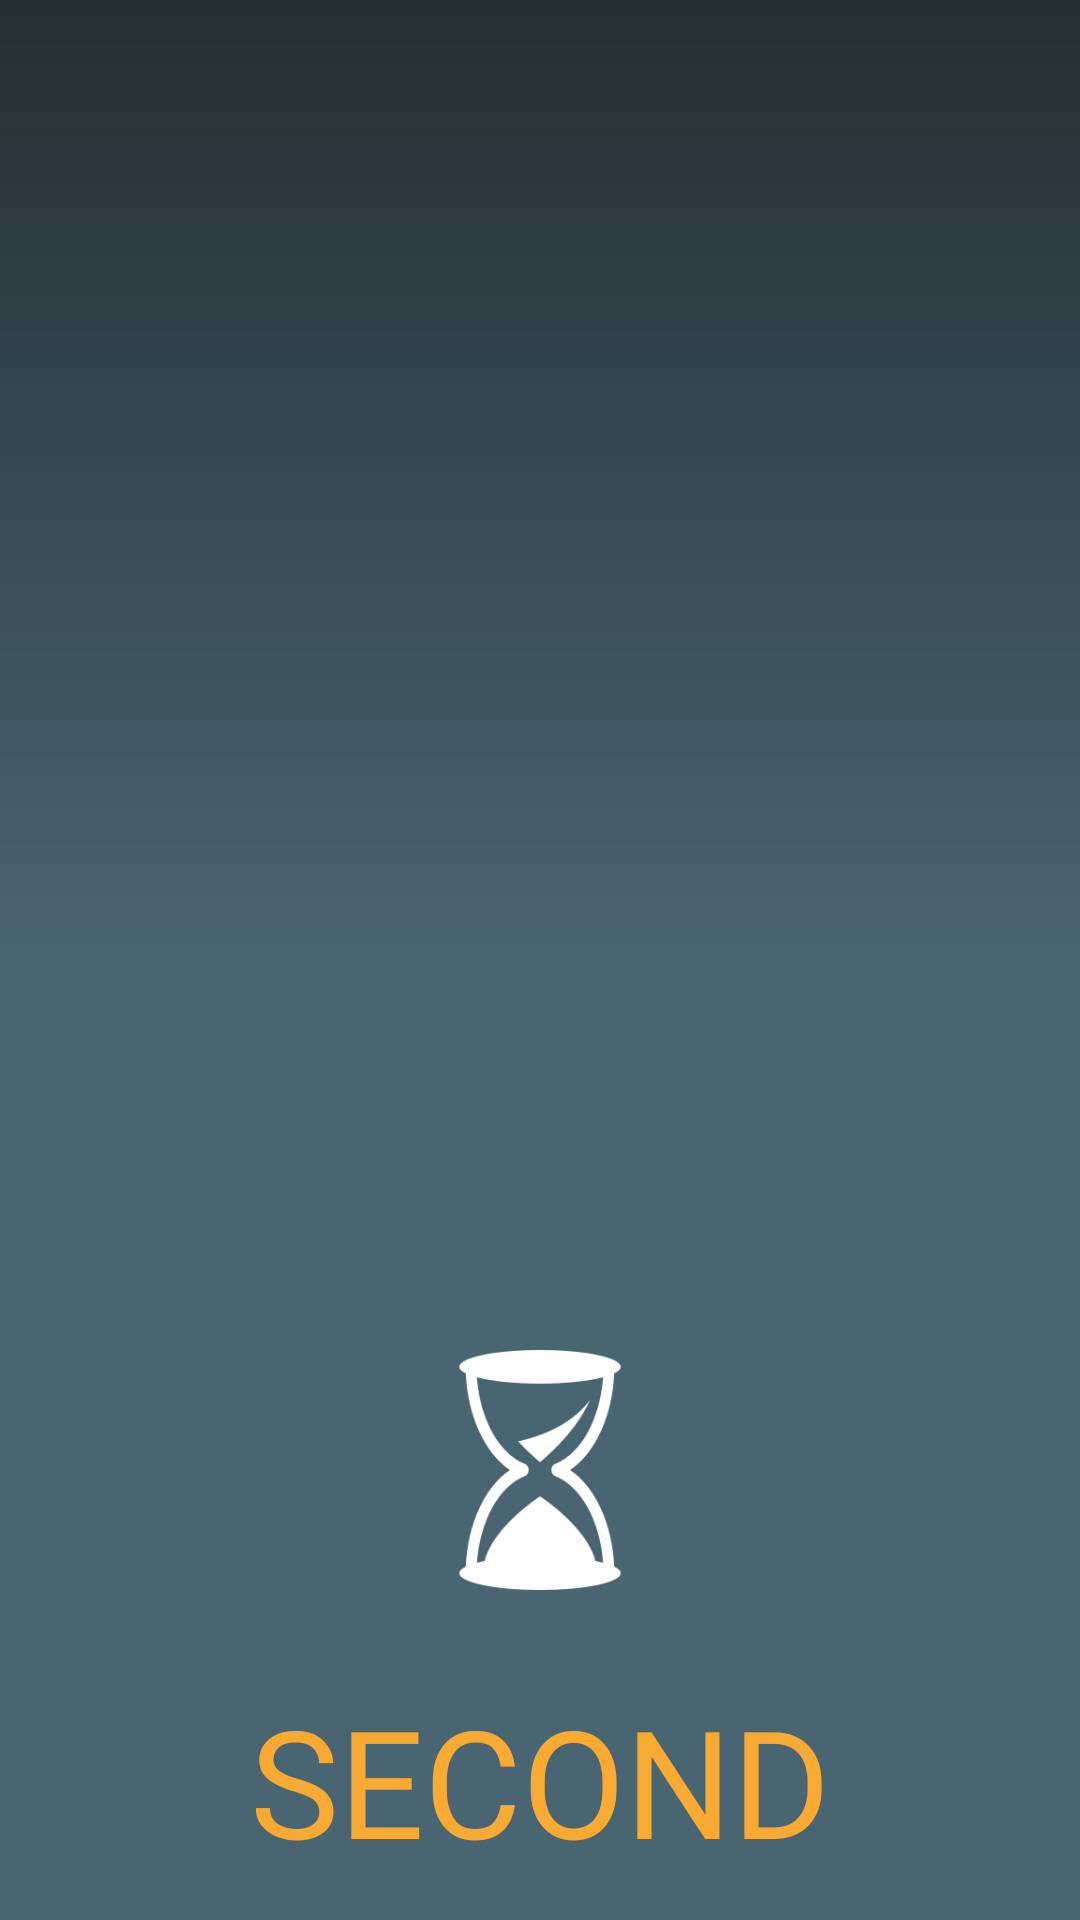

Icons on this 1080 x 1920 Android screen, each with its box as (x1, y1, x2, y2):
reloj: (459, 1350, 621, 1590)
